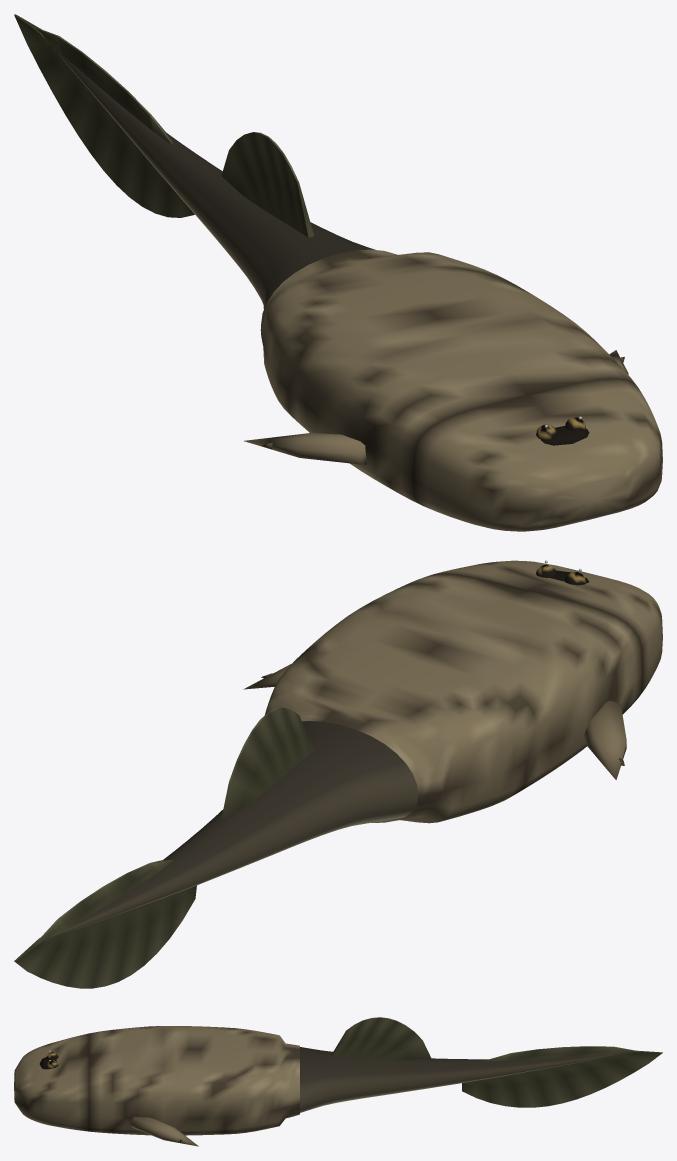
The model's file is SilurolepisPlatydorsalis.fbx.
3 renders of one model, top to bottom at view 1: azimuth 30°, elevation 25°; view 2: azimuth 150°, elevation 25°; view 3: azimuth 270°, elevation 25°, orthographic. The views are drawn at different scales.
Visible parts, largest first — view 1: SilurolepisPlatydorsalis; view 2: SilurolepisPlatydorsalis; view 3: SilurolepisPlatydorsalis.
Part boxes in pixels (x1=…): SilurolepisPlatydorsalis: x1=14, y1=14, x2=662, y2=531; SilurolepisPlatydorsalis: x1=14, y1=560, x2=662, y2=988; SilurolepisPlatydorsalis: x1=14, y1=1017, x2=662, y2=1146.
Size of the model in its own units: 0.6237 by 0.2663 by 1.68.
